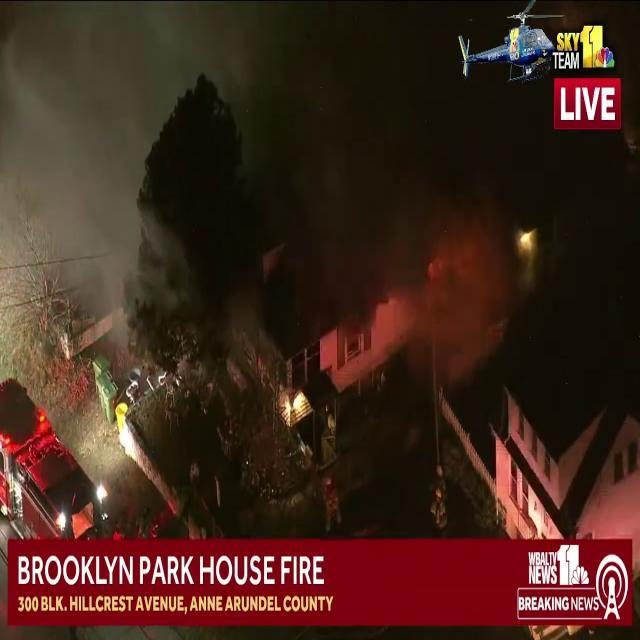Fire: (375, 142, 527, 382)
Smoke: (0, 0, 151, 355)
